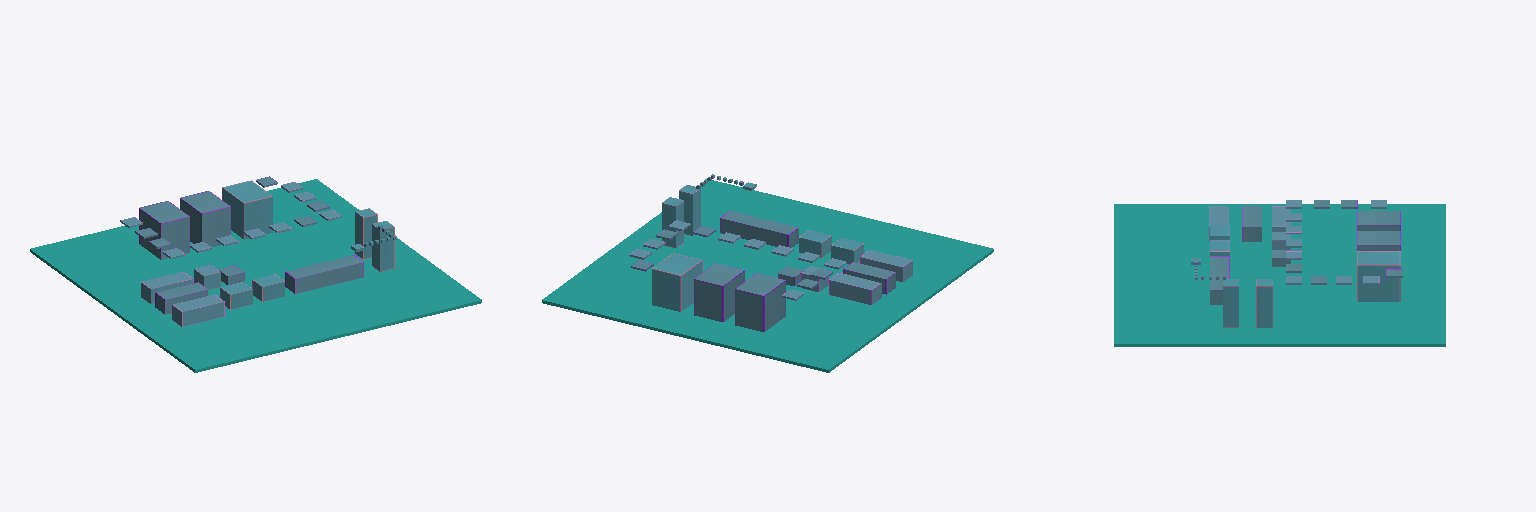
3 views of the same model, side by side, from view 1: azimuth 30°, elevation 25°; view 2: azimuth 150°, elevation 25°; view 3: azimuth 270°, elevation 25° (orthographic).
Parts seen in each view (by area): view 1: 立方体.002; view 2: 立方体.002; view 3: 立方体.002.
Boxes of the visible parts, <box> form: 立方体.002: <box>30,176,481,372</box>; 立方体.002: <box>542,174,993,372</box>; 立方体.002: <box>1114,200,1445,346</box>.
Size of the model in its own units: 200 by 35.41 by 200.
Materials: 1 (1 with a texture image).